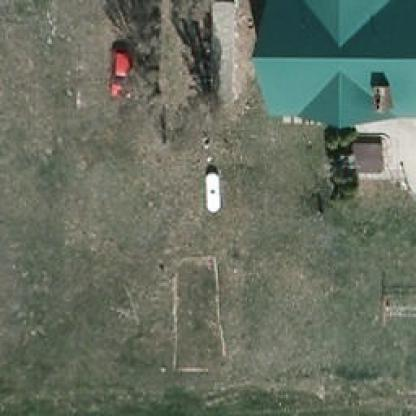car: (107, 41, 133, 99)
